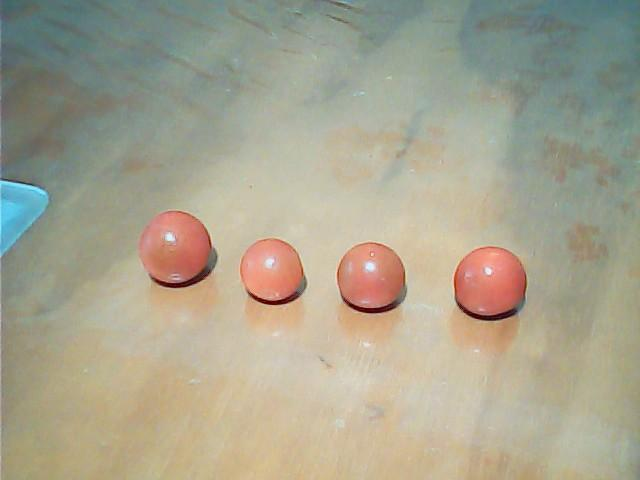maduro: (139, 211, 211, 283), (453, 248, 527, 316), (338, 242, 405, 308), (240, 239, 305, 300)
